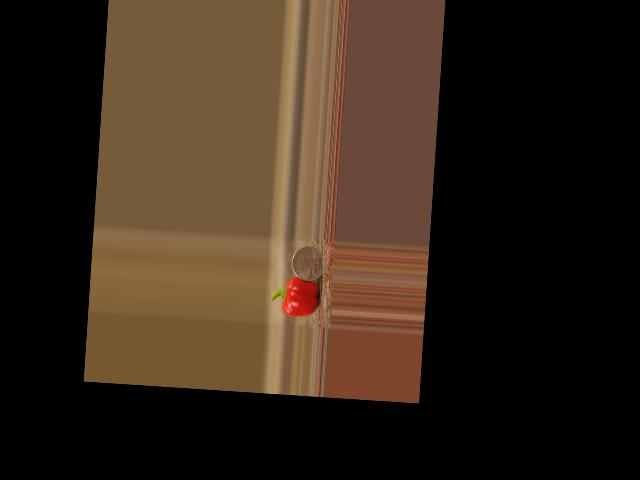bell_pepper: (269, 277, 321, 318)
